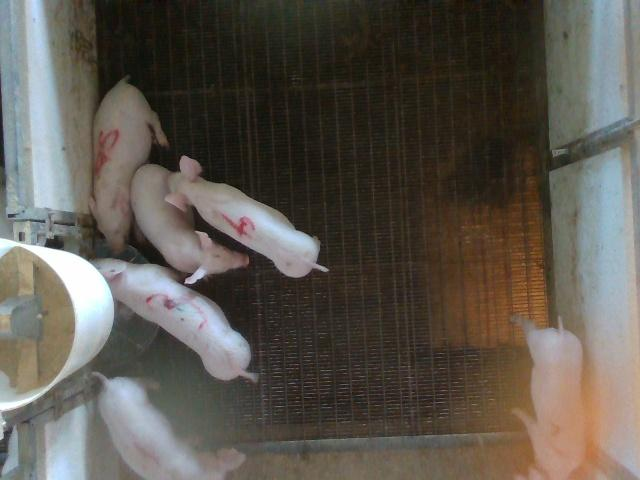pig-1: (94, 373, 202, 479)
pig-2: (512, 315, 586, 479)
pig-3: (91, 259, 256, 381)
pig-4: (166, 156, 328, 277)
pig-5: (90, 76, 169, 254)
